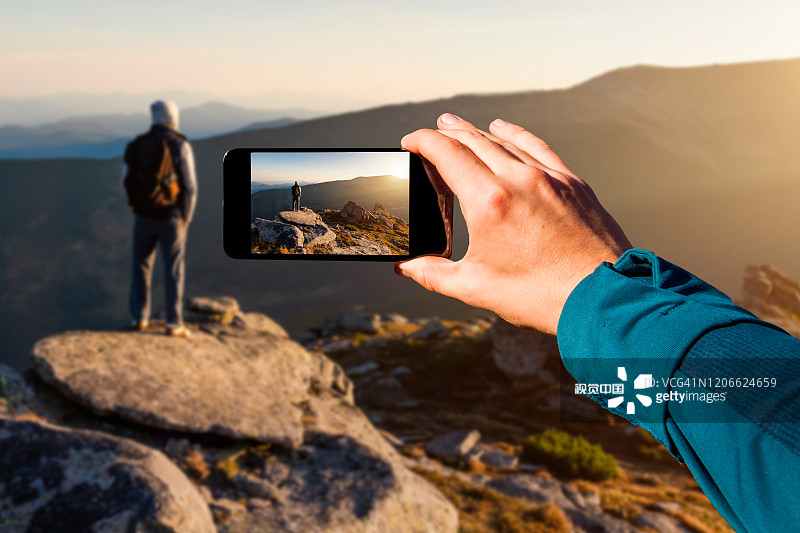taking photos: (203, 96, 670, 354)
